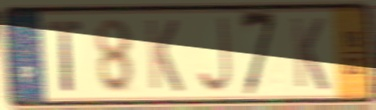7: (238, 9, 280, 101)
8: (93, 17, 136, 95)
J: (195, 15, 234, 96)
K: (143, 16, 186, 95), (289, 15, 331, 94)
T: (45, 18, 85, 95)
